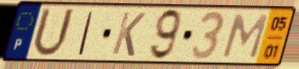3: (191, 10, 228, 62)
9: (148, 8, 183, 62)
I: (76, 10, 96, 57)
K: (109, 10, 148, 58)
M: (220, 13, 271, 61)
U: (30, 5, 77, 60)
